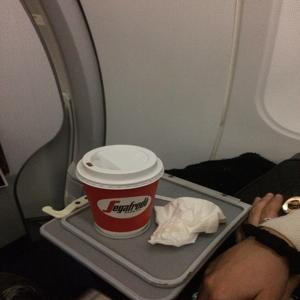cardboard: (78, 176, 155, 237)
paper: (152, 196, 232, 253)
plastic: (74, 139, 167, 186)
